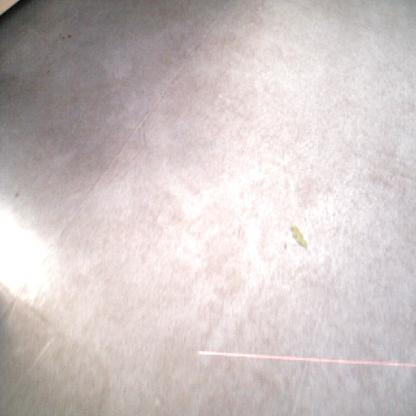dirty: (289, 224, 308, 250)
mark: (193, 40, 202, 51), (282, 239, 288, 252), (142, 130, 148, 143), (168, 33, 175, 43), (14, 190, 20, 200), (45, 68, 51, 76), (67, 34, 73, 40), (48, 61, 53, 68), (61, 36, 66, 42)
